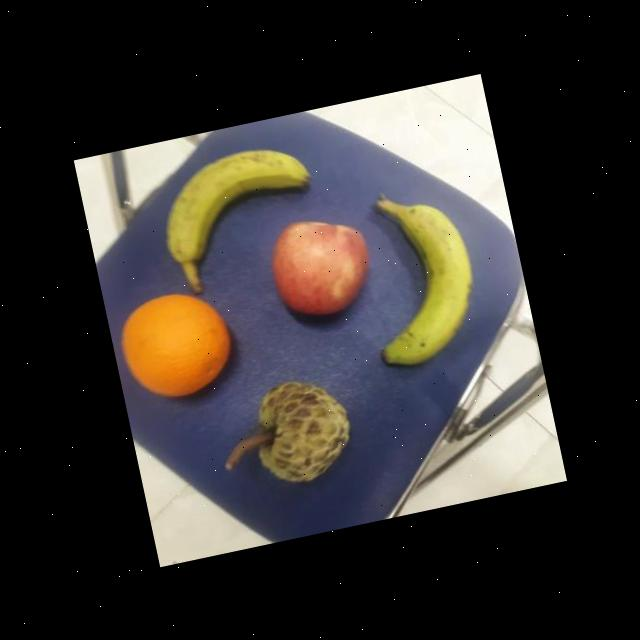Sakya fruit: (242, 371, 361, 494)
apple: (262, 206, 382, 328)
banana: (348, 180, 490, 372), (146, 136, 324, 273)
orange: (110, 278, 243, 410)
